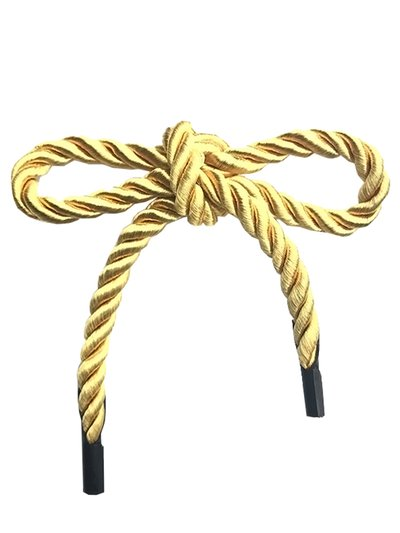9/可回收垃圾/绳子: (10, 119, 392, 496)
